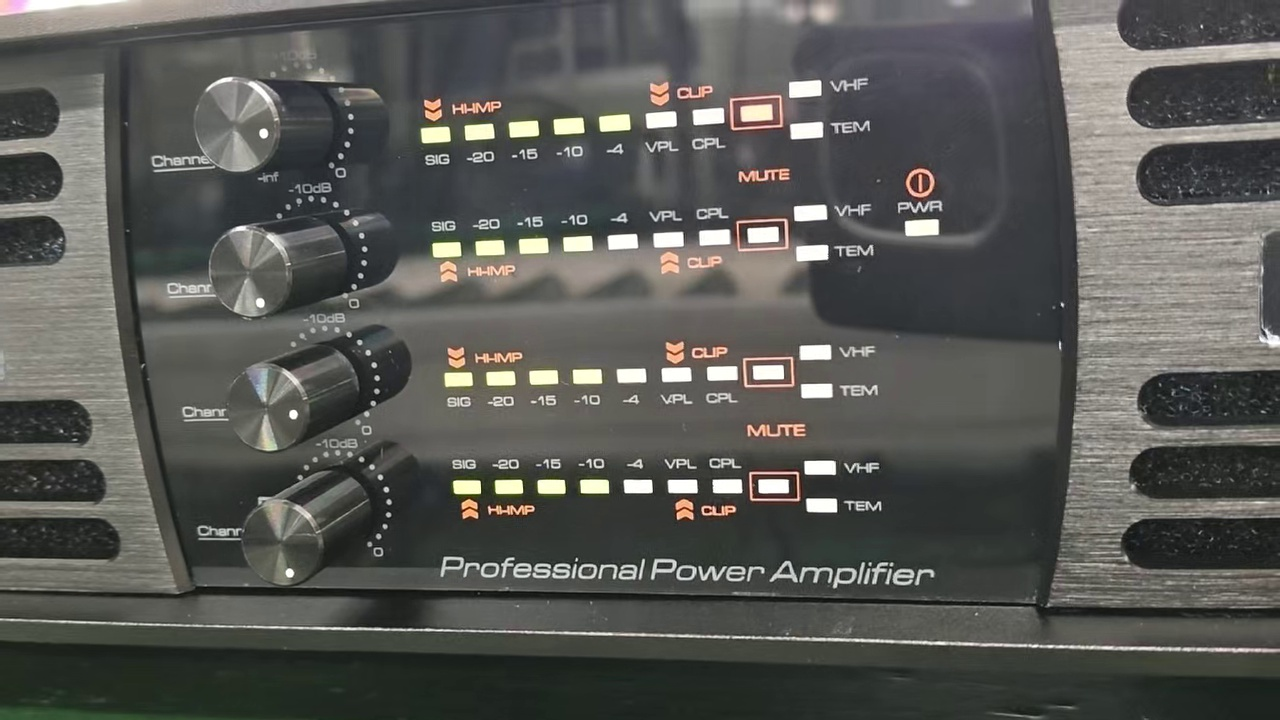FP_CPL: (690, 200, 736, 255), (689, 104, 729, 160), (707, 449, 749, 501), (701, 362, 742, 414)
FP_PWR: (892, 195, 946, 241)
FP_PWR_area: (888, 156, 949, 246)
FP_SIG_area: (407, 68, 880, 172), (427, 195, 877, 287), (447, 444, 886, 534), (435, 337, 878, 411)
FP_VPL: (646, 198, 686, 254), (642, 106, 682, 161), (660, 451, 704, 499), (658, 362, 695, 415)
